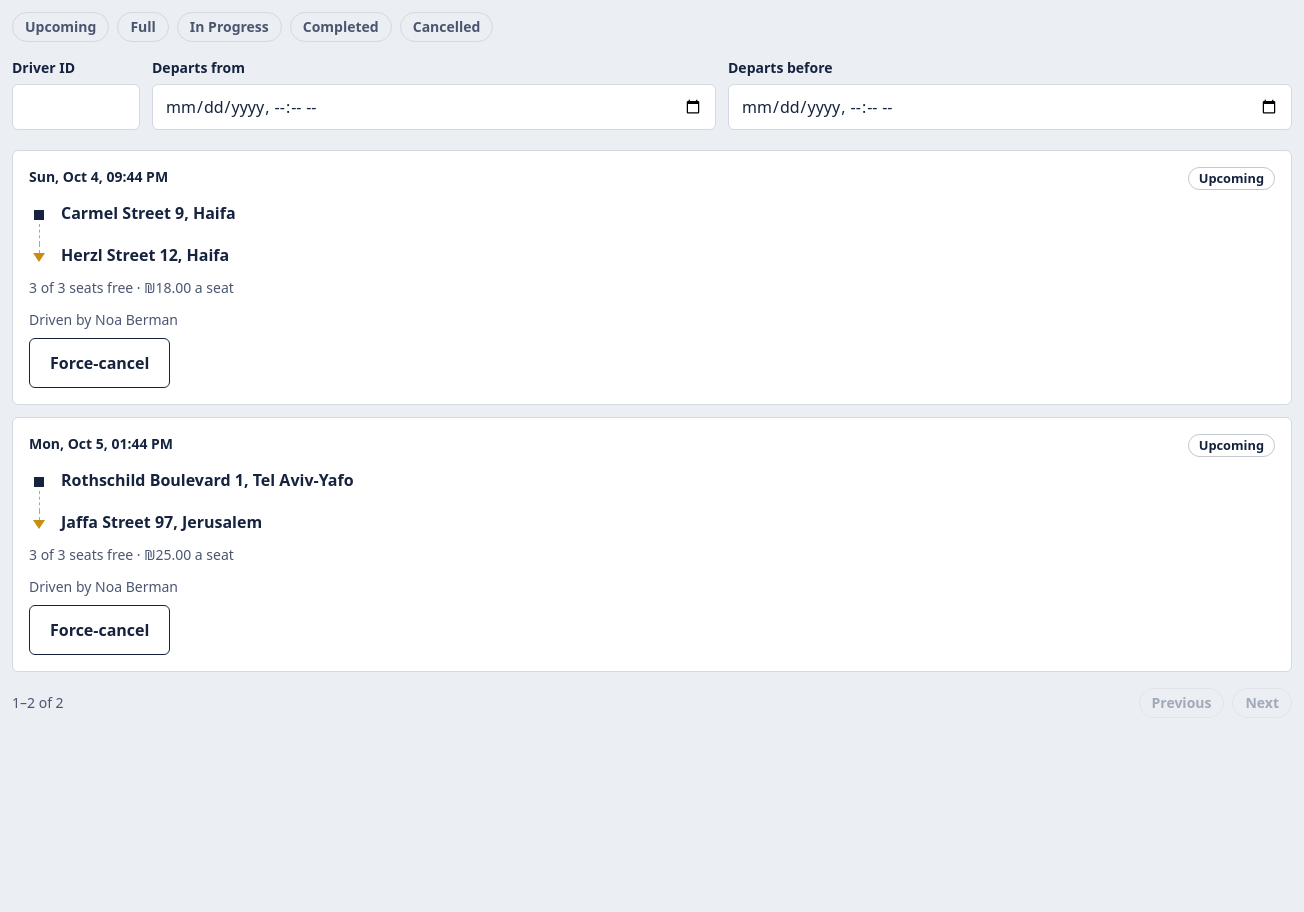
it: Admin ride monitoring › force-cancels a ride once a reason is given
Click the button "Force-cancel" below "₪18.00": [100, 363] box x1=29 y1=338 x2=170 y2=388
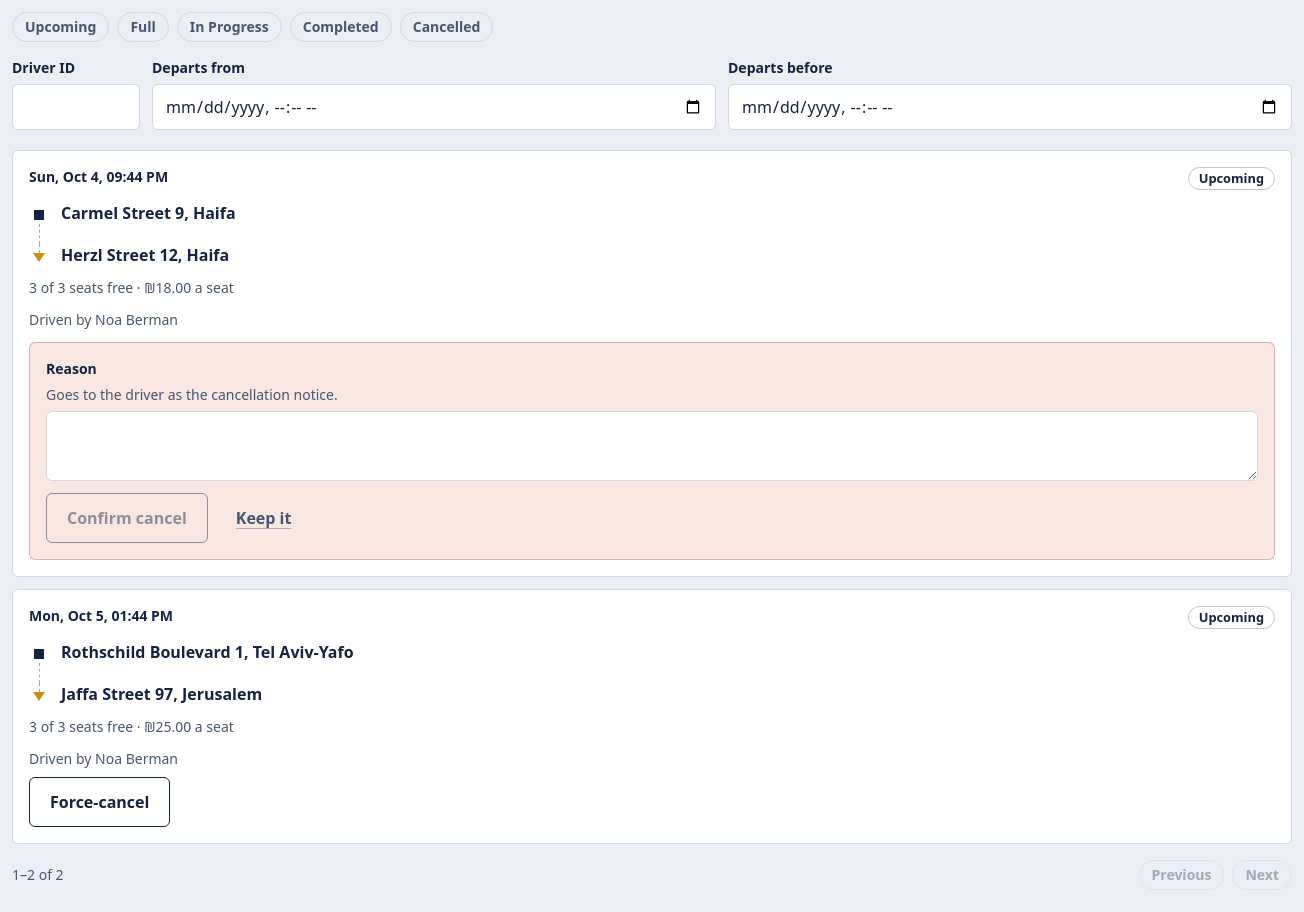
In the text box labelled "Reason": [652, 446] box x1=46 y1=411 x2=1258 y2=481, type "Reported unsafe driving"
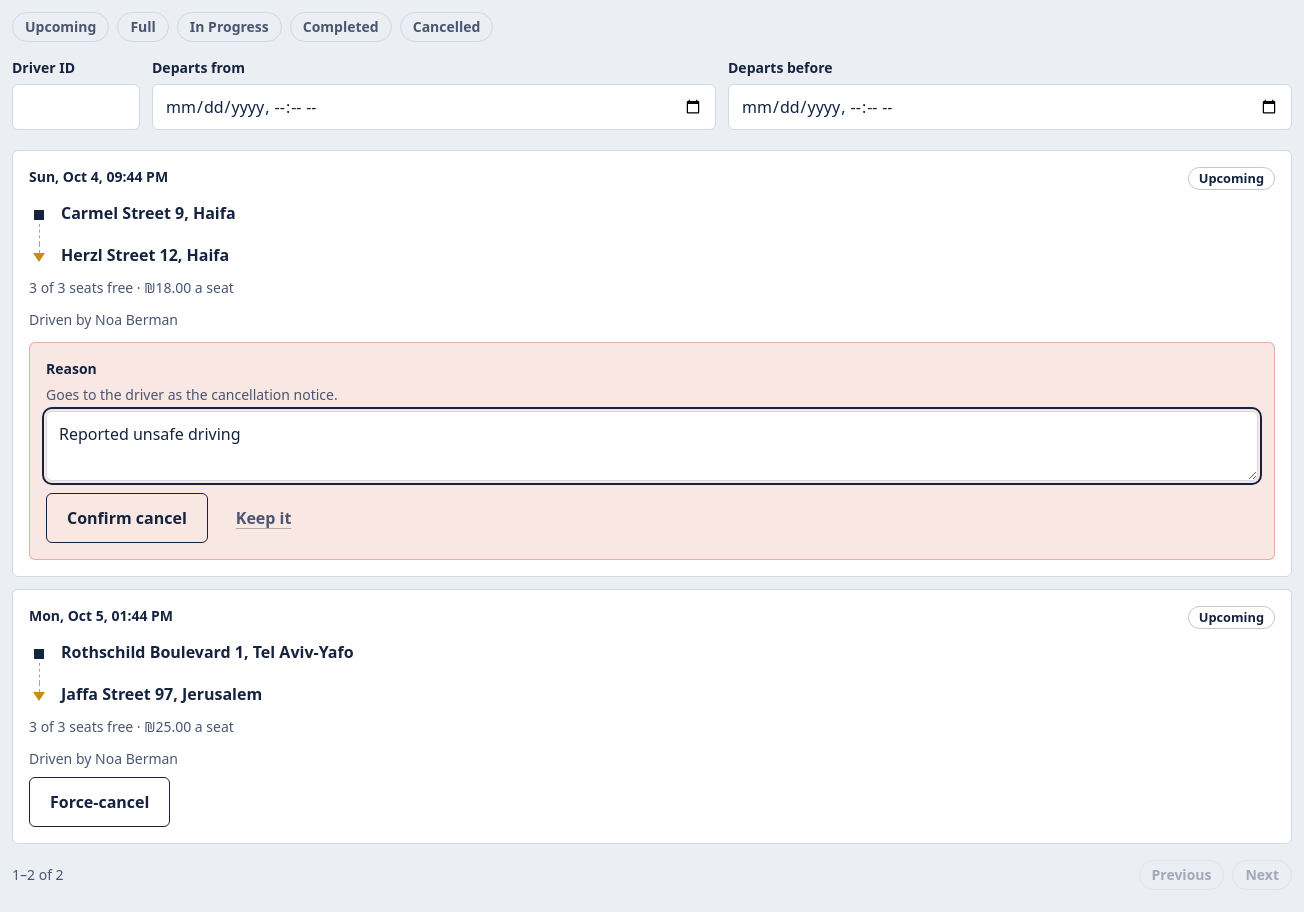
Click the button "Confirm cancel": [127, 518] box x1=46 y1=493 x2=208 y2=543
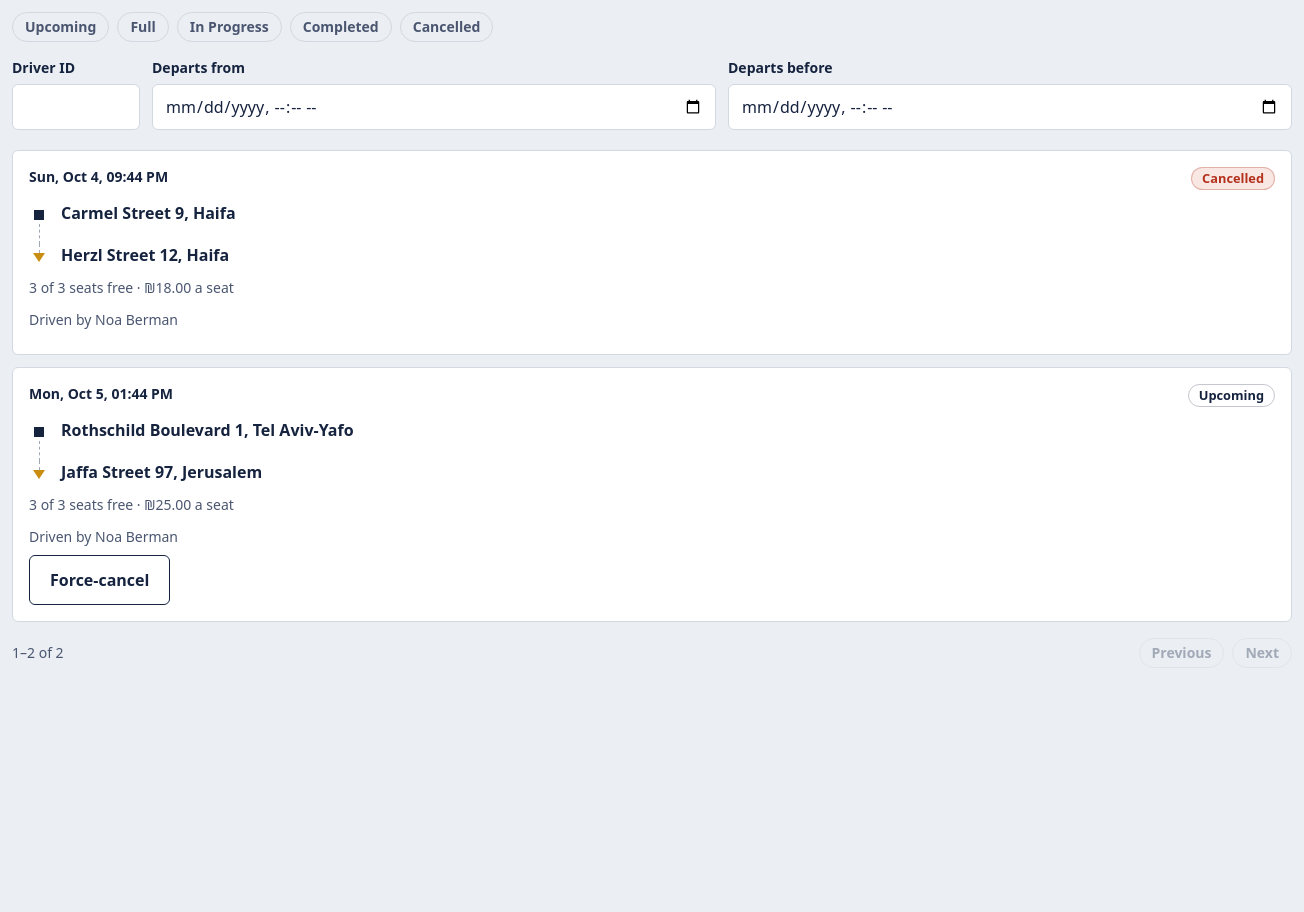
Expected: the text "Cancelled" is shown, x1=1191 y1=167 x2=1275 y2=190
